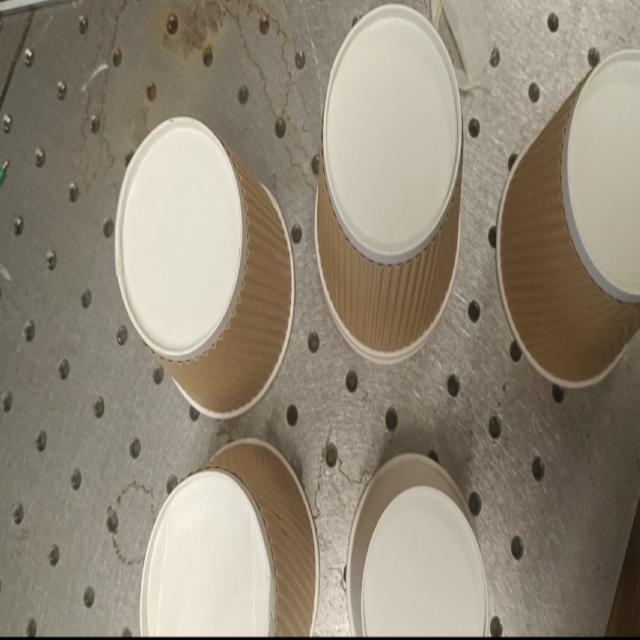Browncup: (114, 116, 294, 417), (315, 5, 462, 361), (496, 50, 639, 387), (140, 439, 318, 635)
Whitecup: (347, 453, 489, 638)
